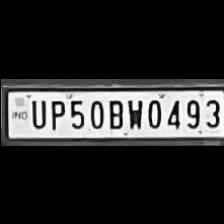0: (85, 96, 105, 128), (142, 96, 162, 128)
3: (202, 94, 222, 128)
4: (163, 94, 181, 128)
5: (65, 96, 85, 128)
9: (182, 96, 200, 127)
B: (104, 96, 124, 128)
P: (45, 96, 65, 128)
U: (26, 96, 46, 128)
W: (124, 96, 144, 128)
